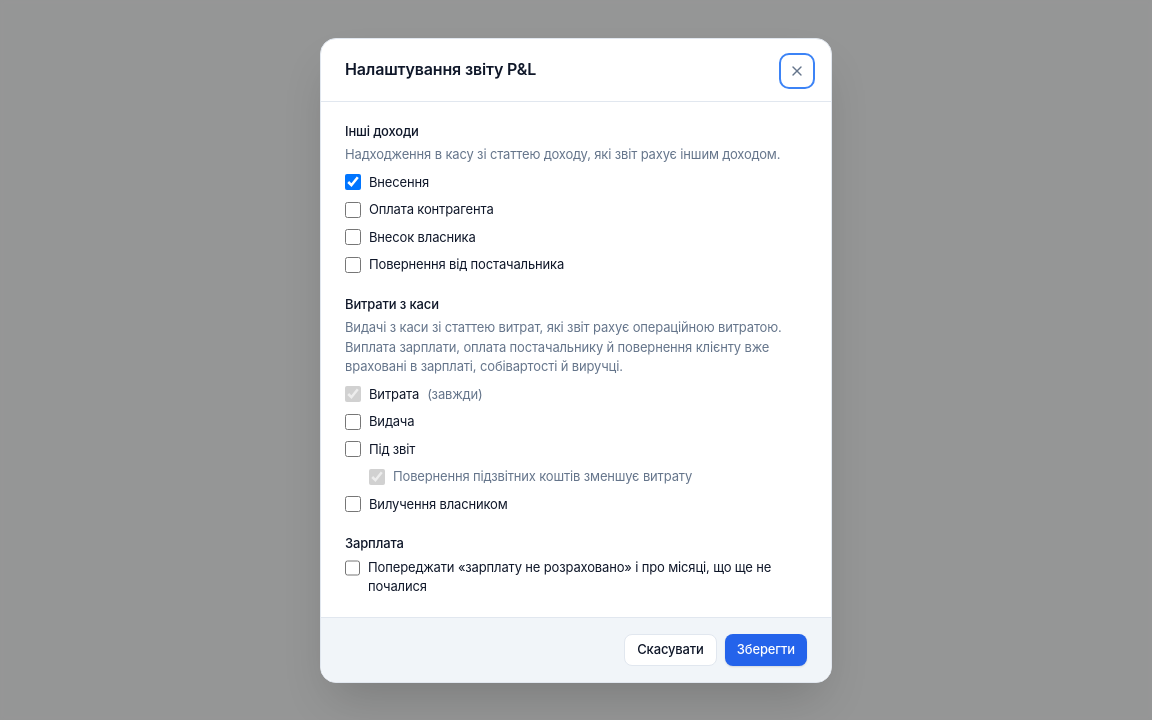
Test: PnlSettingsModal — BR-RPT-030 › оплата контрагента як інший дохід — попередження про подвійний облік
This screenshot has width=1152, height=720.
Click the checkbox labelled "Оплата контрагента": [353, 210] box x1=345 y1=202 x2=361 y2=218
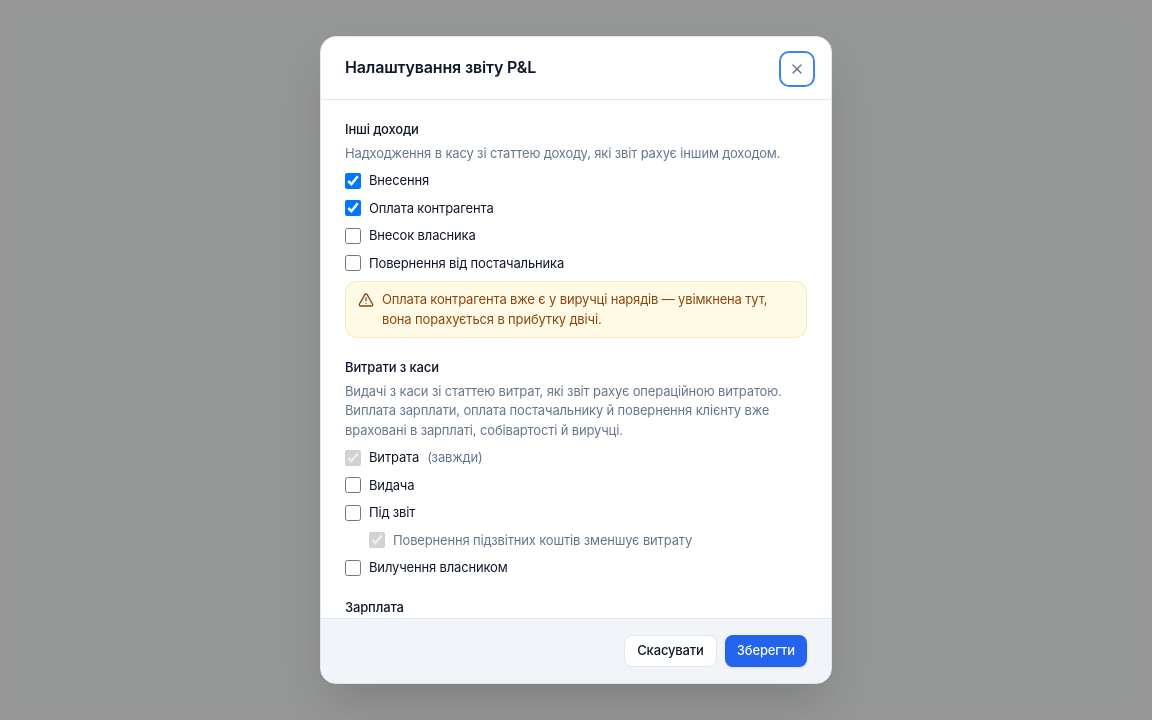
Now the element with test id "pnl-settings-double-count" shows "двічі", box x1=382 y1=291 x2=767 y2=326
Click the checkbox labelled "Оплата контрагента": [353, 208] box x1=345 y1=200 x2=361 y2=216
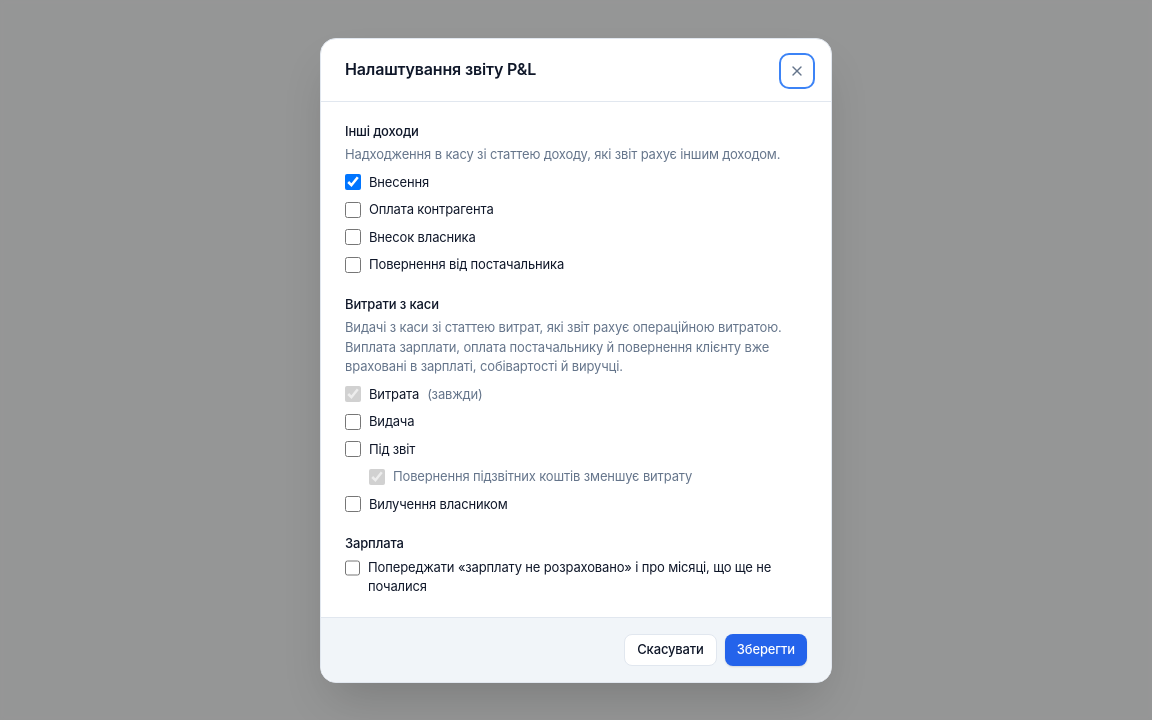
Now the element with test id "pnl-settings-double-count" is gone
